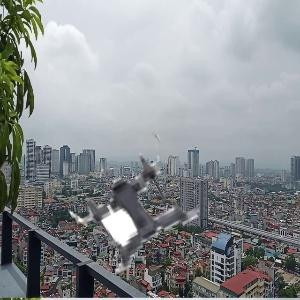drone: (66, 139, 209, 282)
